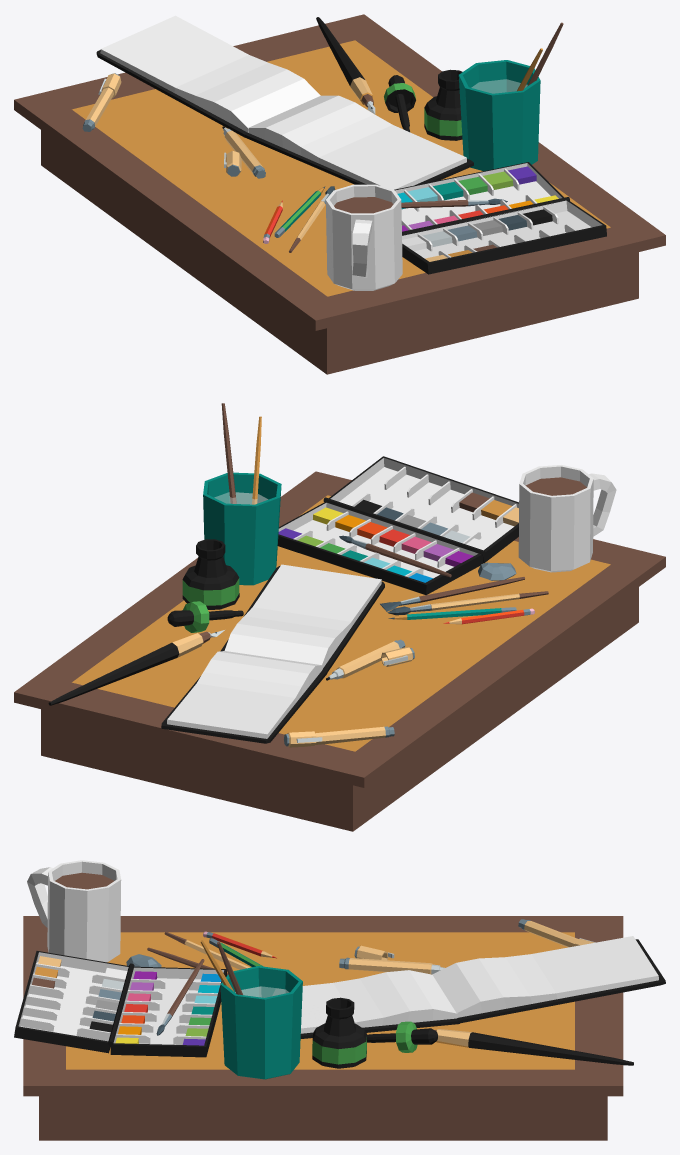
The model's file is Watercolor Set.glb.
3 renders of one model, top to bottom at view 1: azimuth 30°, elevation 25°; view 2: azimuth 150°, elevation 25°; view 3: azimuth 270°, elevation 25°, orthographic.
Parts seen in each view (by area): view 1: group1683272464; view 2: group1683272464; view 3: group1683272464.
Part boxes in pixels (x1,y1,x2,y2): group1683272464: (14, 14, 665, 374); group1683272464: (14, 403, 665, 831); group1683272464: (14, 860, 665, 1140).
Size of the model in its own units: 2.33 by 1.31 by 3.78.
